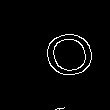O_S: (36, 28, 99, 87)
